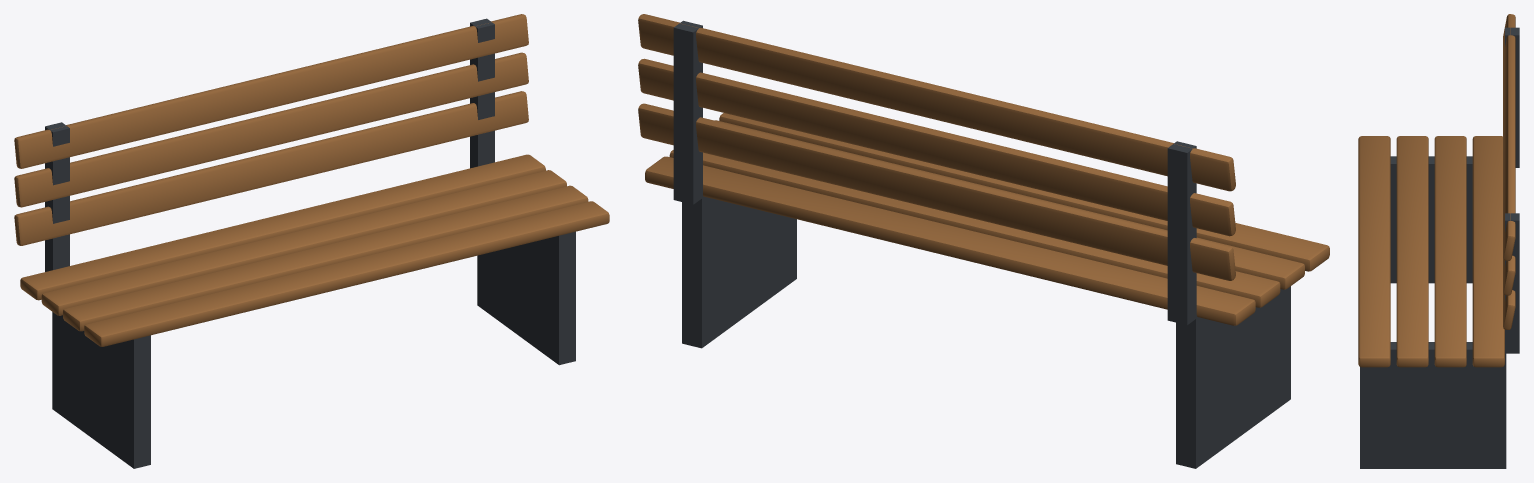
Rendered from bench.glb.
3 renders of one model, left to right at view 1: azimuth 30°, elevation 25°; view 2: azimuth 150°, elevation 25°; view 3: azimuth 270°, elevation 25°, orthographic. The views are drawn at different scales.
Parts seen in each view (by area): view 1: bench; view 2: bench; view 3: bench.
Part boxes in pixels (box(x1,y1,x2,y2)): bench: box(14, 14, 609, 468); bench: box(638, 14, 1329, 468); bench: box(1358, 14, 1519, 468).
Bounding box in the file's own units: 1.8 × 0.9351 × 0.55.
